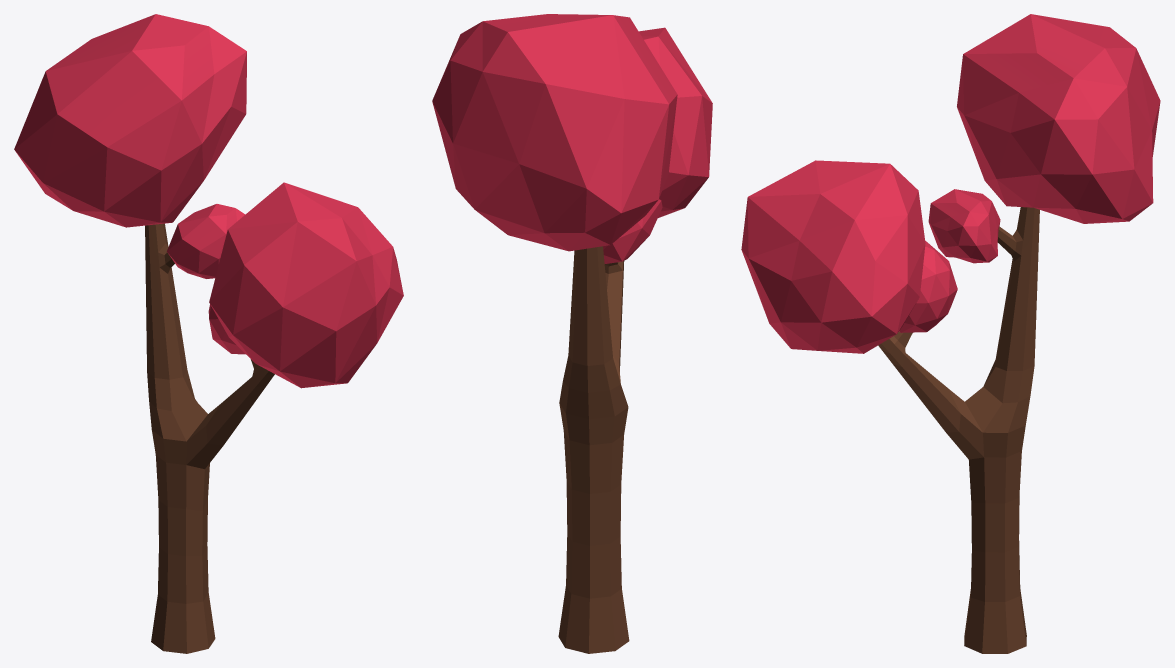
The picture shows the model from 3 angles, left to right: view 1: azimuth 30°, elevation 25°; view 2: azimuth 150°, elevation 25°; view 3: azimuth 270°, elevation 25°; orthographic projection. The views are drawn at different scales.
Visible parts, largest first — view 1: t7-purple; view 2: t7-purple; view 3: t7-purple.
Part boxes in pixels (left/top/right/bottom): t7-purple: left=14, top=14, right=403, bottom=653; t7-purple: left=432, top=14, right=712, bottom=653; t7-purple: left=741, top=14, right=1160, bottom=653.
Bounding box in the file's own units: 454 × 1002 × 625.
